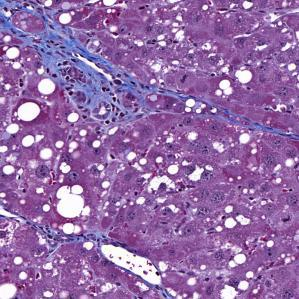fibrosis: (35, 35, 149, 123)
